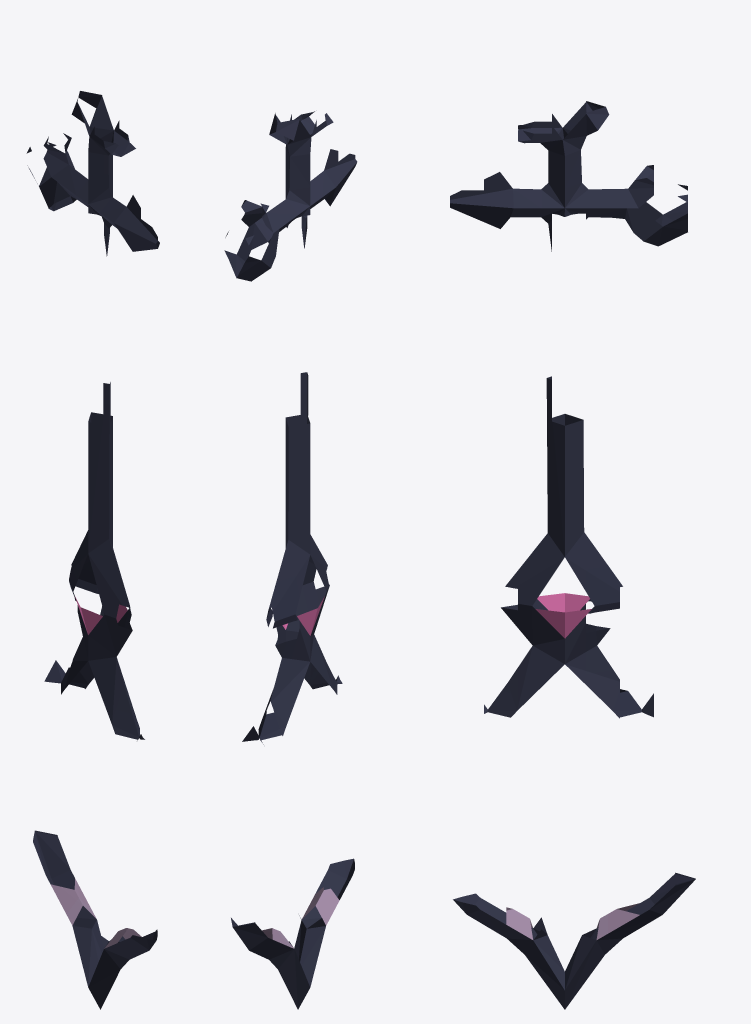
File: signofinnocence.obj
3 renders of one model, left to right at view 1: azimuth 30°, elevation 25°; view 2: azimuth 150°, elevation 25°; view 3: azimuth 270°, elevation 25°, orthographic.
Size of the model in its own units: 5.32 by 103 by 30.63.
